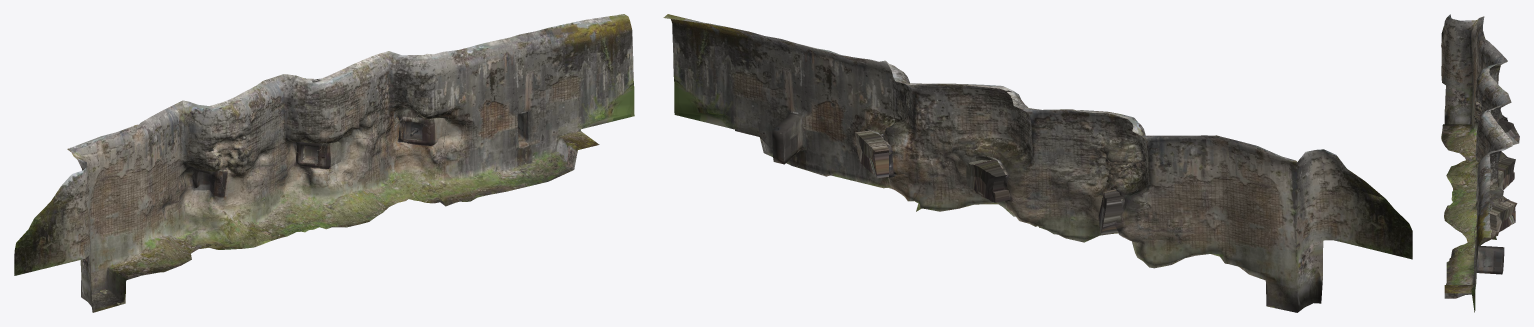
The model's file is ArtilleryBunker_Damage.FBX.
3 views of the same model, side by side, from view 1: azimuth 30°, elevation 25°; view 2: azimuth 150°, elevation 25°; view 3: azimuth 270°, elevation 25° (orthographic). The views are drawn at different scales.
Parts seen in each view (by area): view 1: ArtilleryBunker_Damage_LOD0; view 2: ArtilleryBunker_Damage_LOD0; view 3: ArtilleryBunker_Damage_LOD0.
Boxes of the visible parts, x1,y1,x2,y2 form: ArtilleryBunker_Damage_LOD0: (14, 14, 634, 312); ArtilleryBunker_Damage_LOD0: (663, 14, 1412, 312); ArtilleryBunker_Damage_LOD0: (1441, 14, 1519, 312).
Size of what is drawn, in the model's own units: 4302 by 979 by 577.
